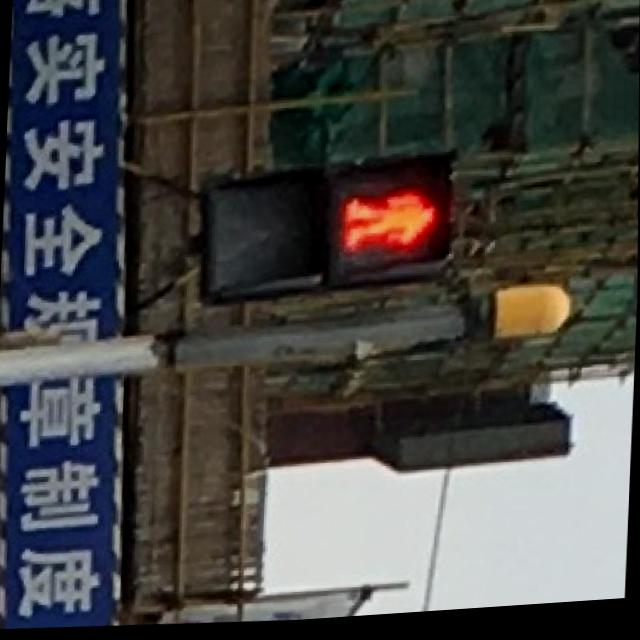red_light: (333, 167, 446, 276)
